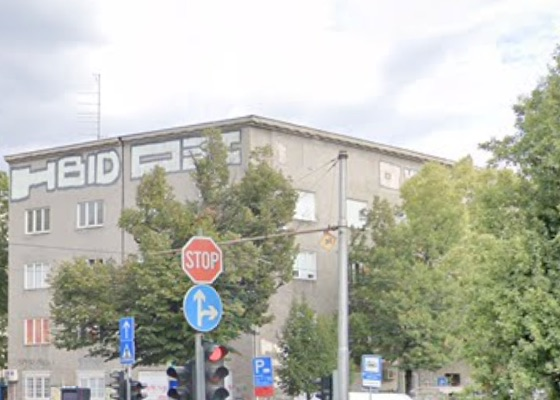Obavezno zaustavljanje: (182, 236, 223, 284)
